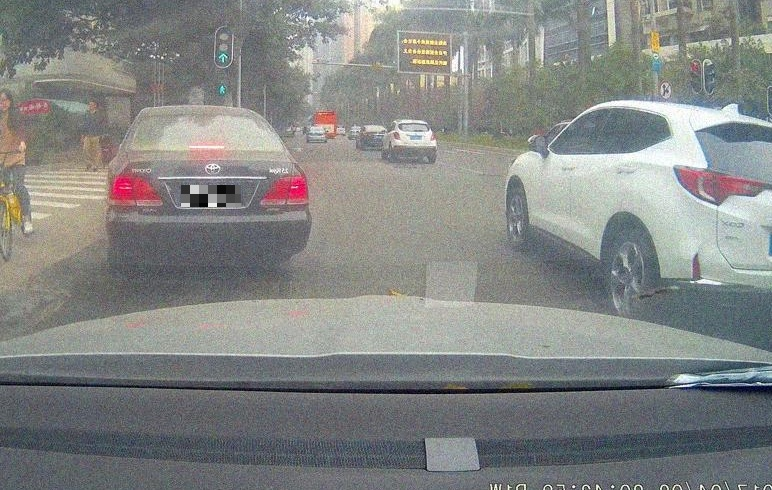L_light: (108, 174, 163, 207), (394, 131, 401, 140)
R_light: (259, 173, 310, 205), (429, 133, 436, 141)
T_light: (189, 145, 225, 149), (411, 123, 419, 125)
day-brake: (106, 105, 311, 268)
day-no: (393, 120, 437, 163)
plate_1: (181, 185, 241, 207)
